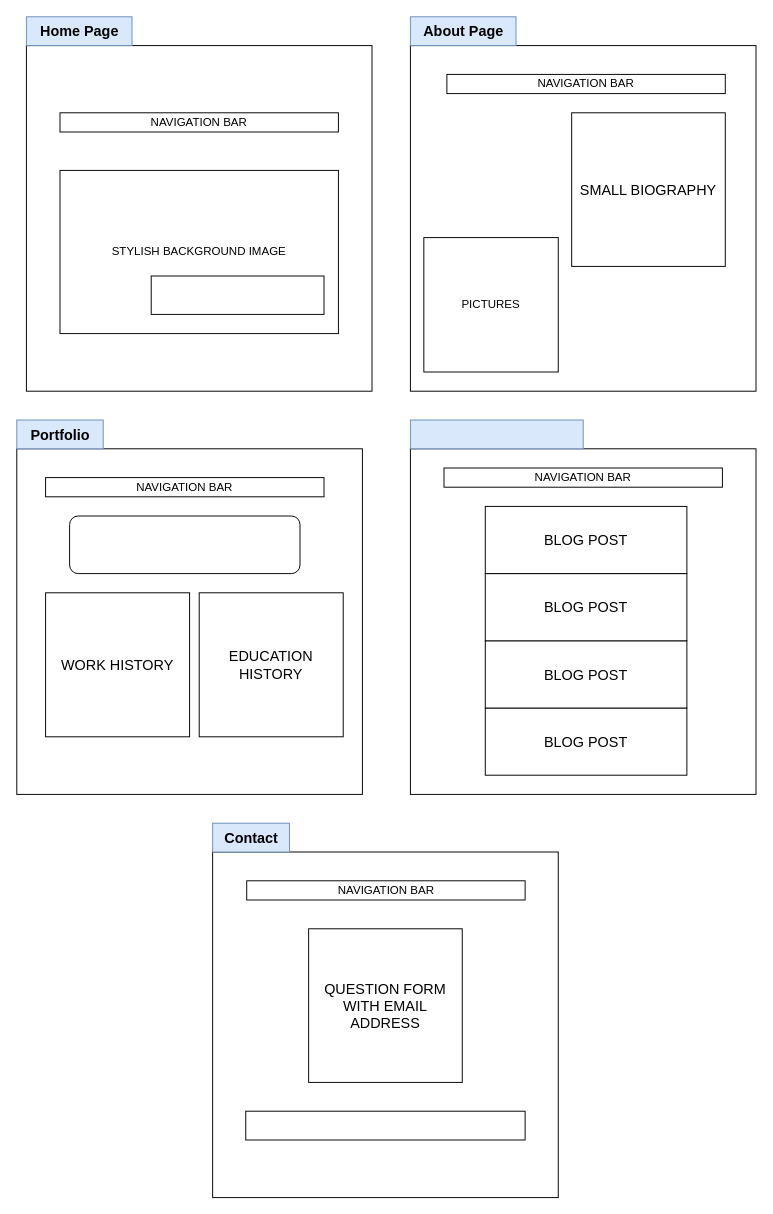
Image size: 773x1214. Some labels were removed from this diagram. Each missing label, with the centre of its shape:
Current Interests/Blog: the point at 496,434
GREETING: the point at 237,294
LINK TO GITHUB + LINK TO SPECIFIC PROJECTS WITH NAMES: the point at 184,544
SOCIALS: the point at 385,1125
